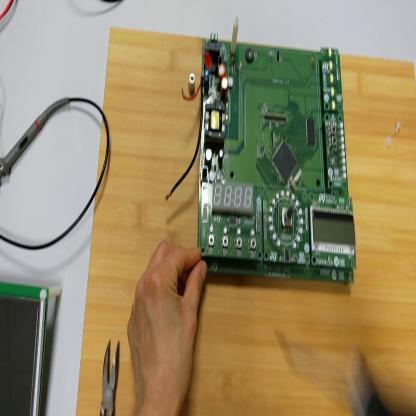hand: (126, 240, 208, 403)
low voltage board: (167, 12, 358, 280), (2, 278, 49, 415)
oscilloscope probe tip: (2, 95, 70, 181)
pliers: (101, 333, 121, 414)
screwdriver-: (277, 330, 387, 416)
working area: (77, 23, 416, 416)
